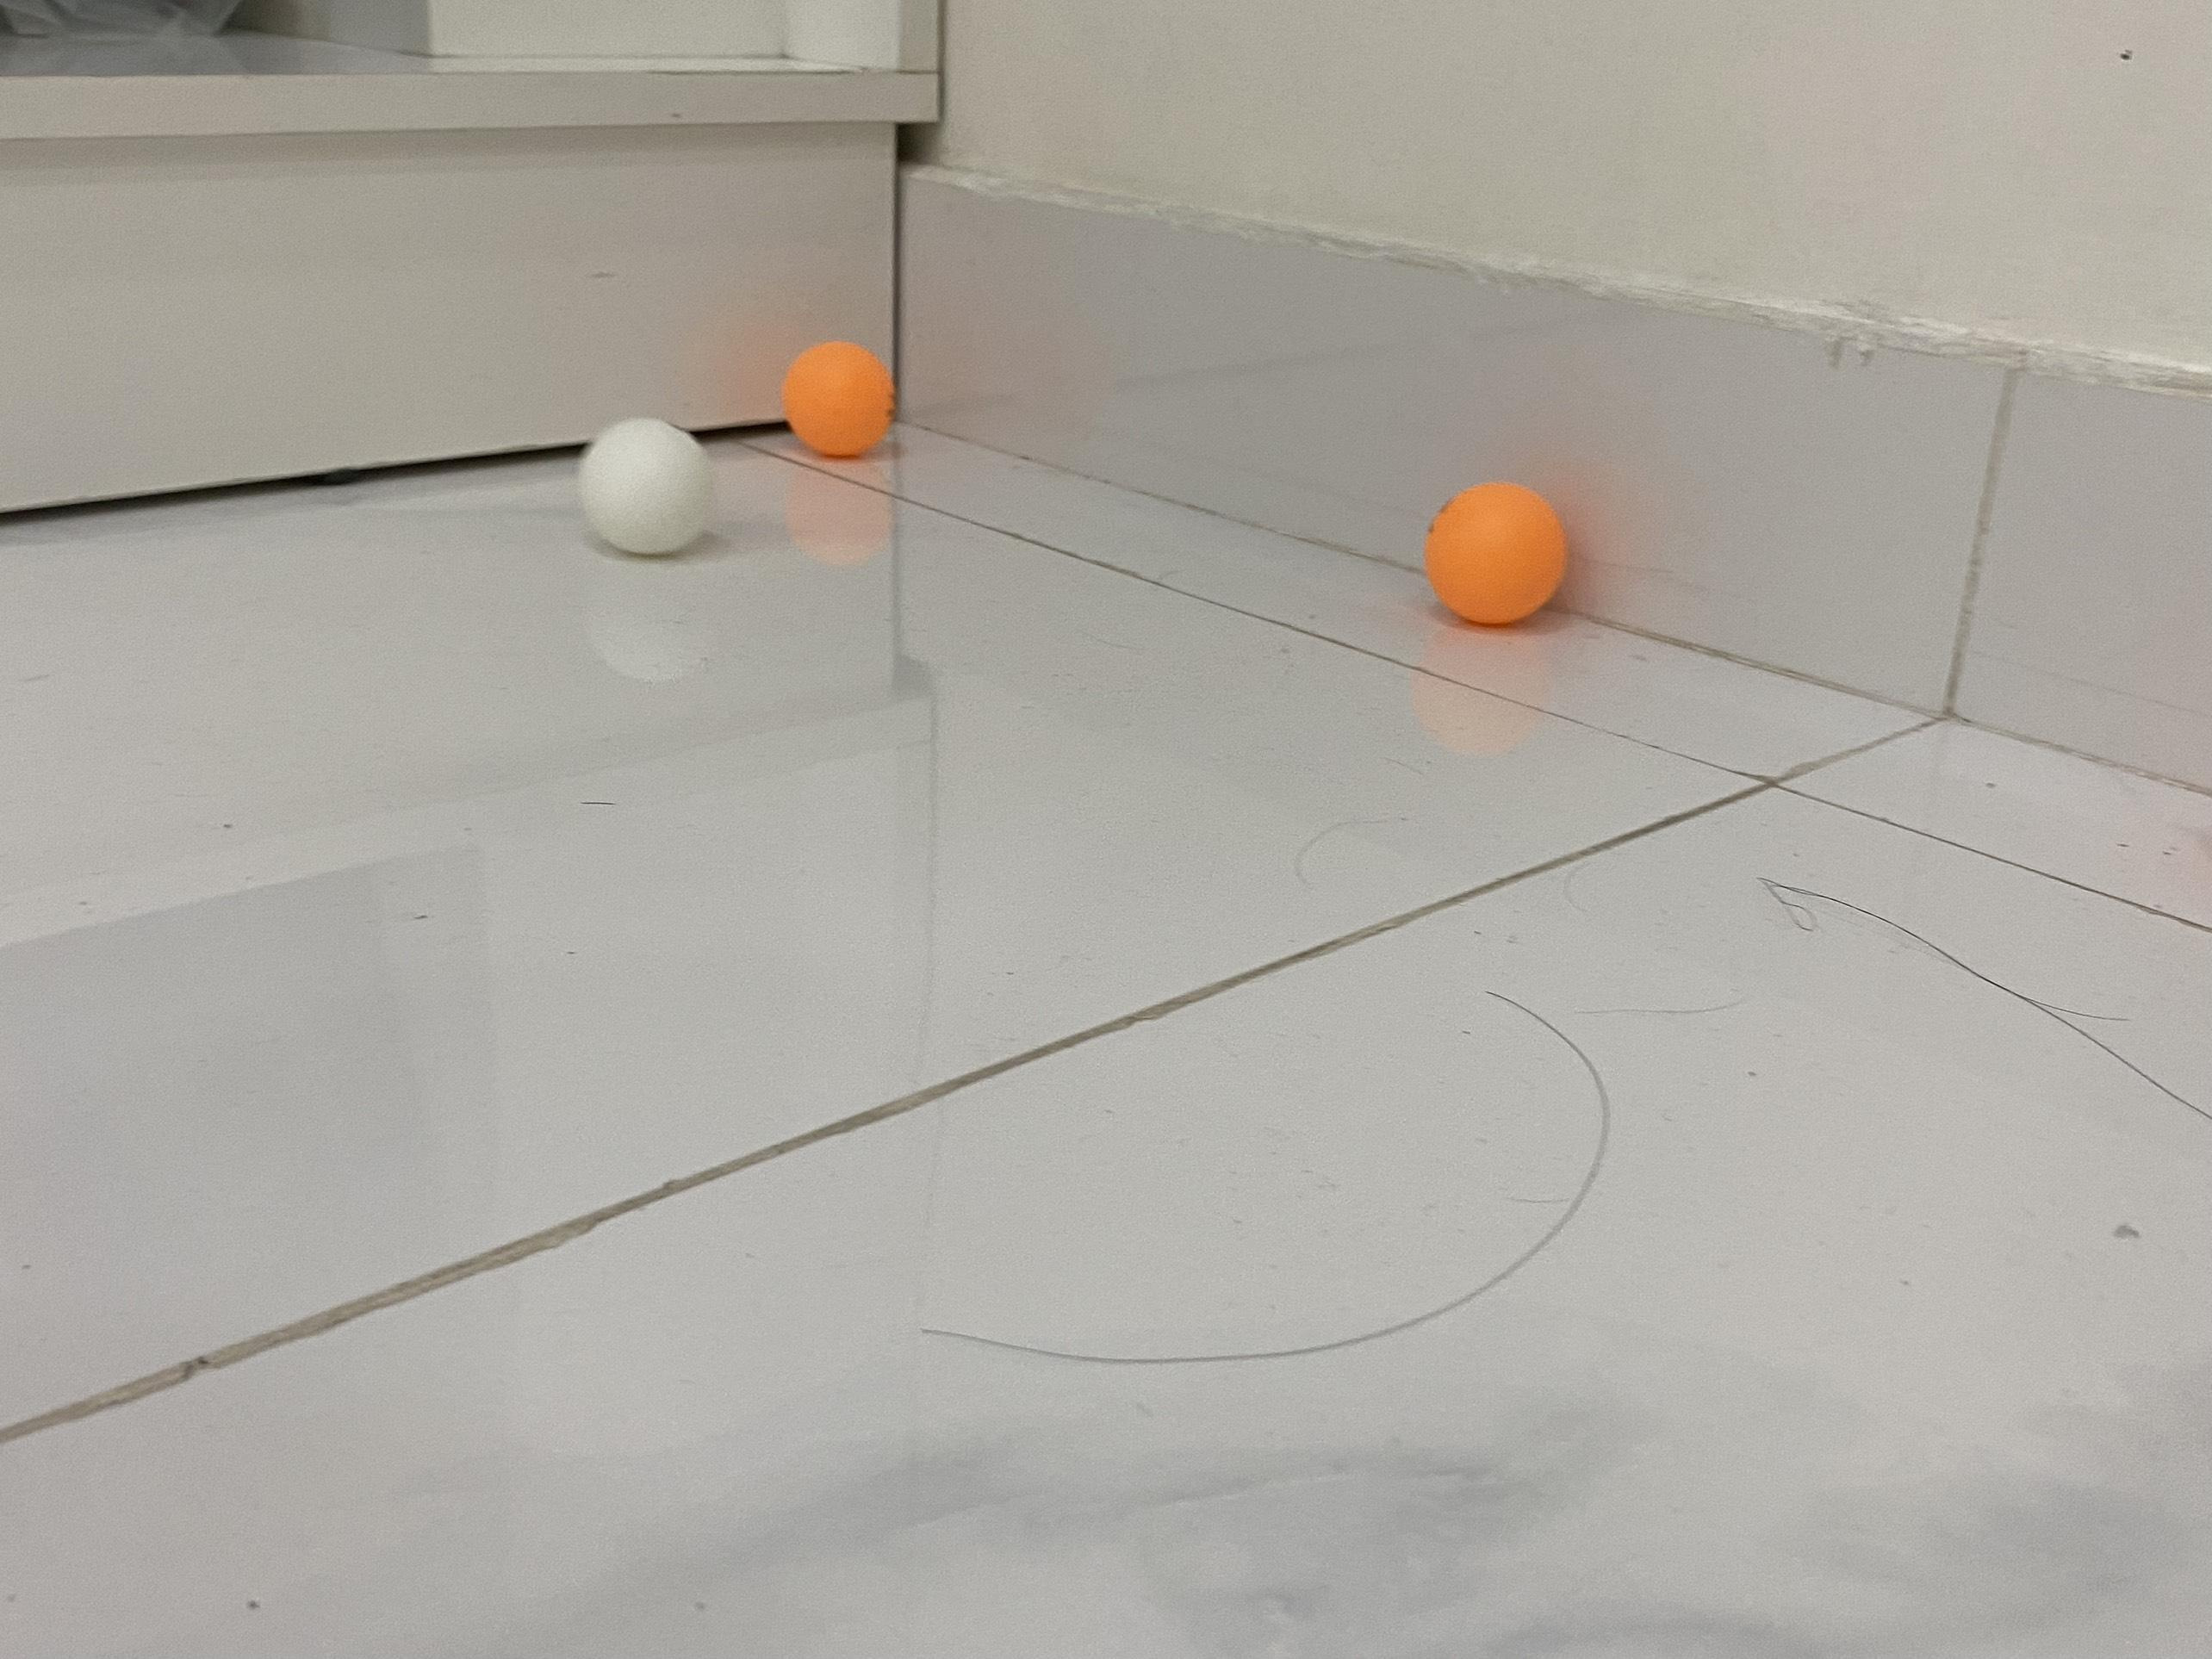oball: (1423, 476, 1575, 633), (784, 336, 895, 458)
